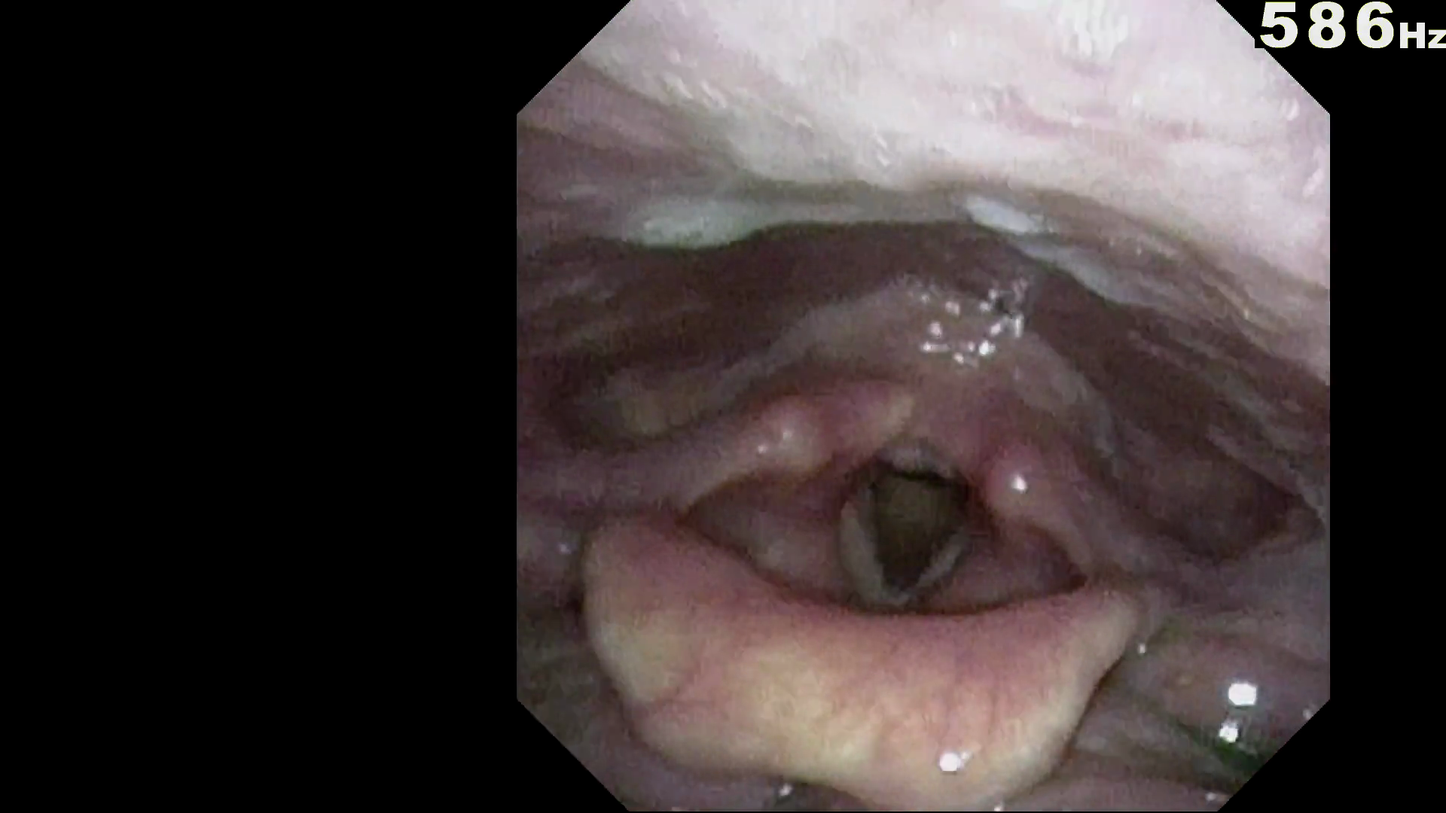epiglottis: (596, 564, 1137, 754)
trachea: (841, 460, 965, 613)
